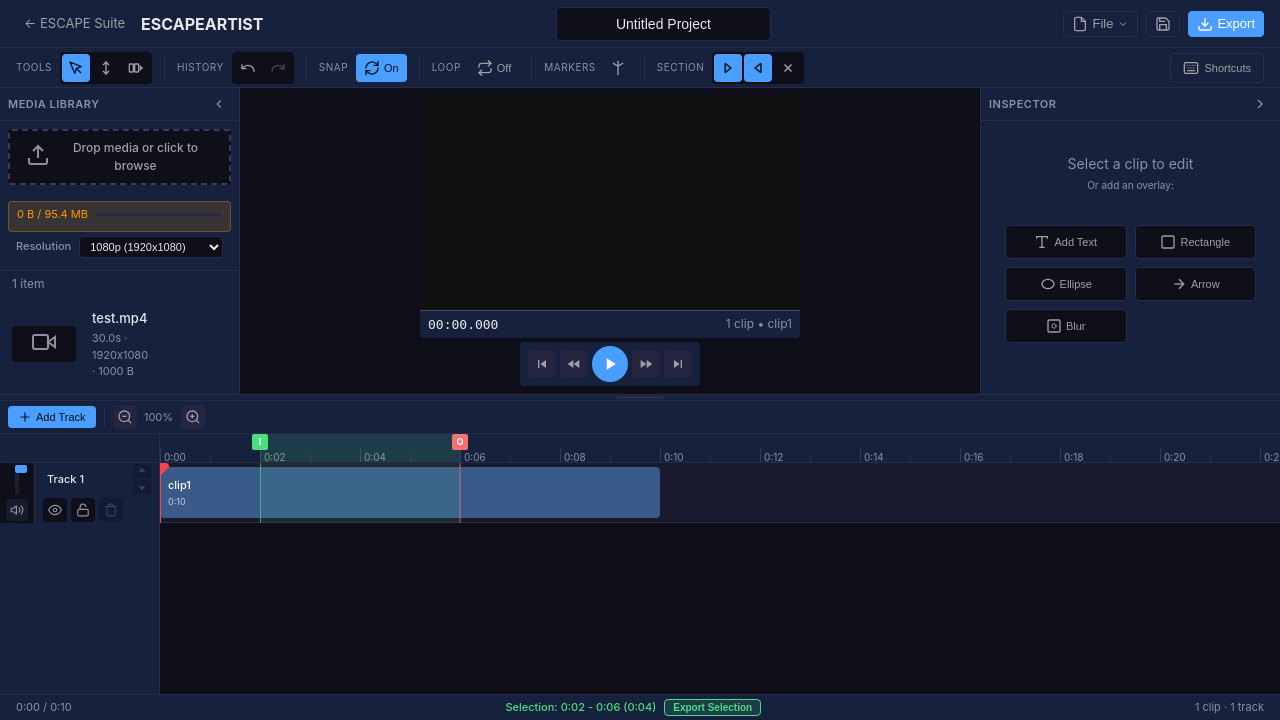
Test case: App project lifecycle › the editor chrome › exports just the selected region from the timeline
This screenshot has width=1280, height=720.
Click the button "Export Selection": [713, 708] box [664, 699, 761, 716]
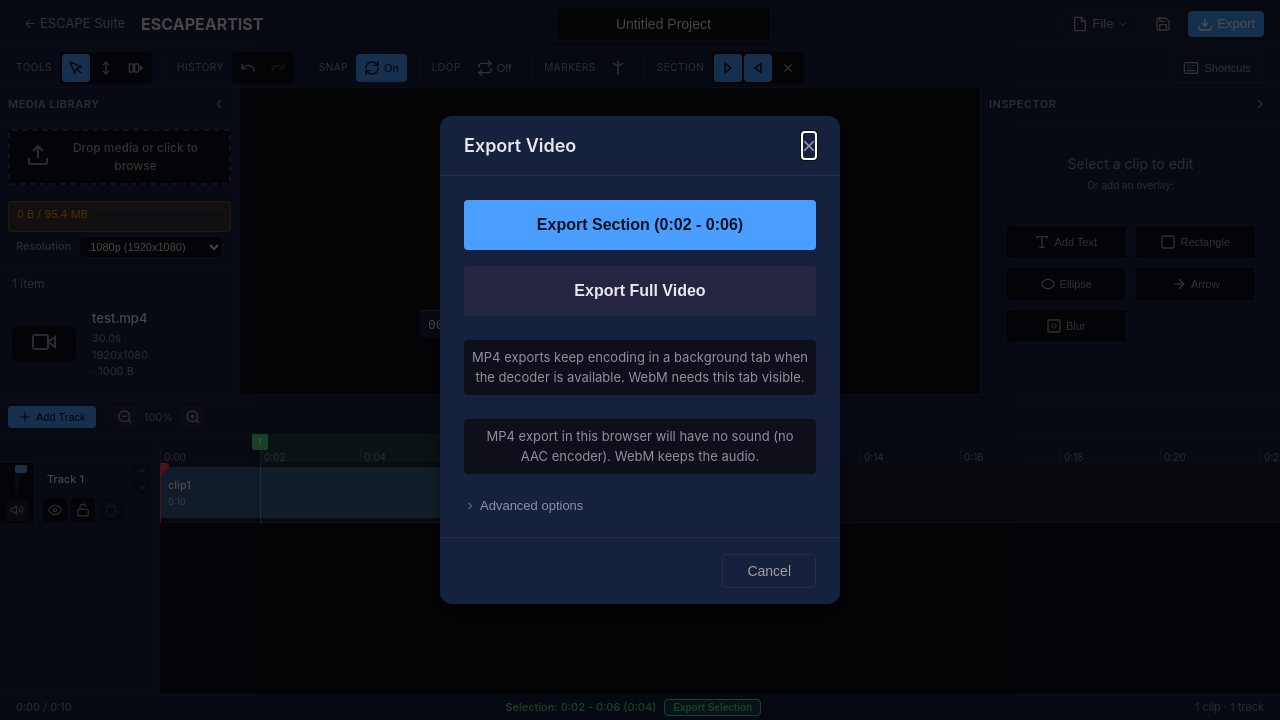
Now the heading "Export Video" is shown, box [464, 132, 576, 159]
